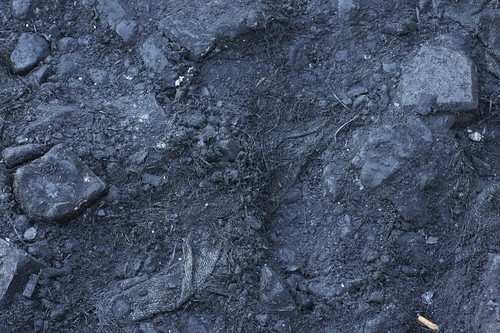dirt: (1, 1, 490, 330)
